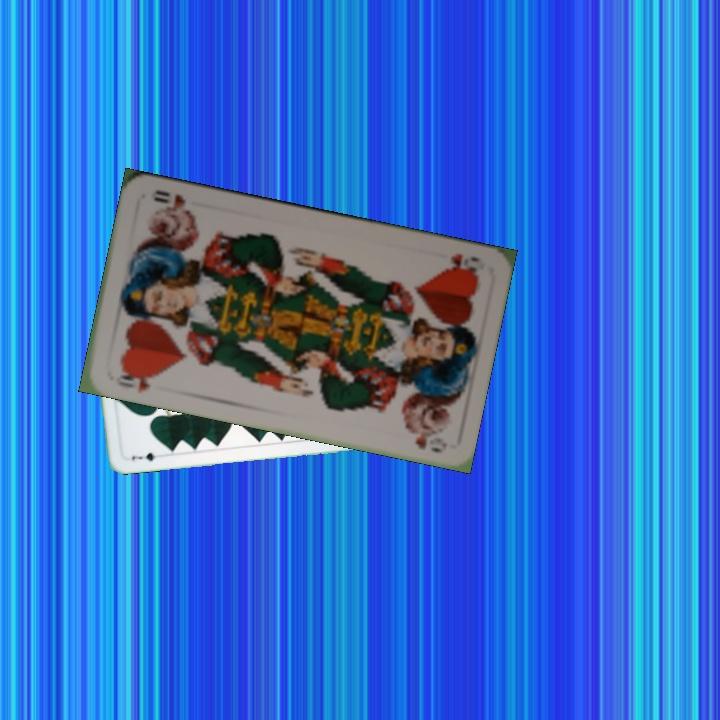G7: (128, 449, 158, 463)
HO: (111, 364, 161, 396), (440, 249, 483, 277)
